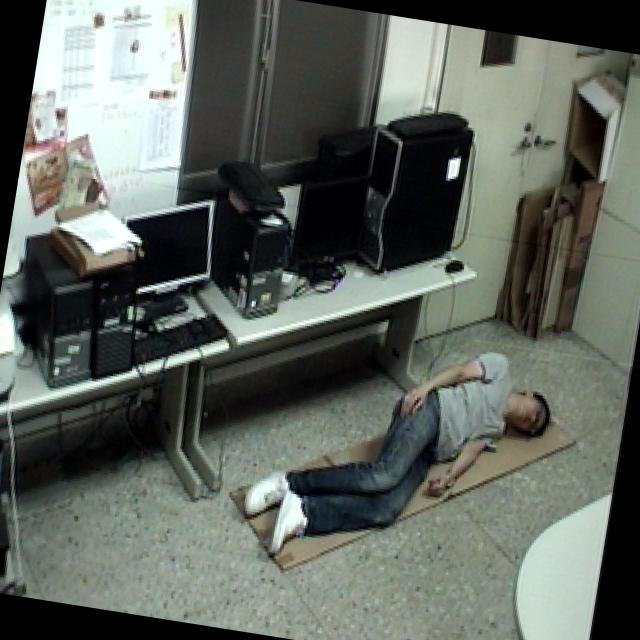lie: (228, 309, 563, 606)
